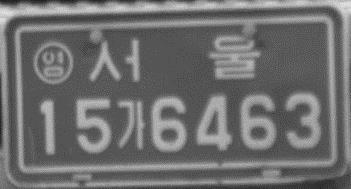1: (35, 97, 61, 157)
3: (284, 90, 322, 151)
4: (195, 93, 235, 153)
5: (72, 97, 113, 154)
6: (238, 93, 279, 153), (151, 93, 188, 155)
가: (115, 98, 149, 153)
서울_D: (86, 34, 263, 84)
영: (33, 39, 76, 84)
